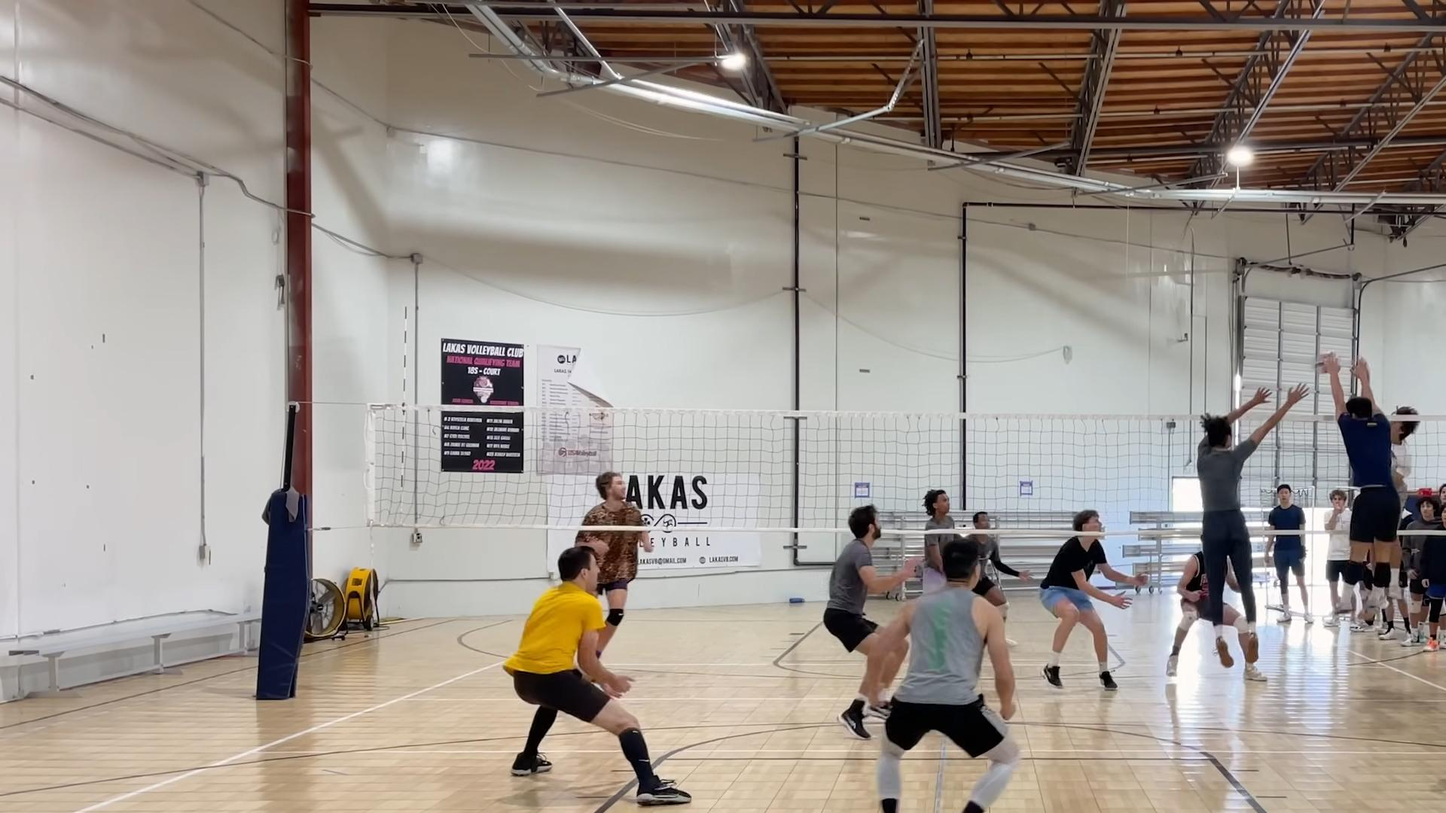attacco: (1384, 393, 1421, 585)
muro: (1197, 375, 1308, 673), (1321, 350, 1399, 625)
